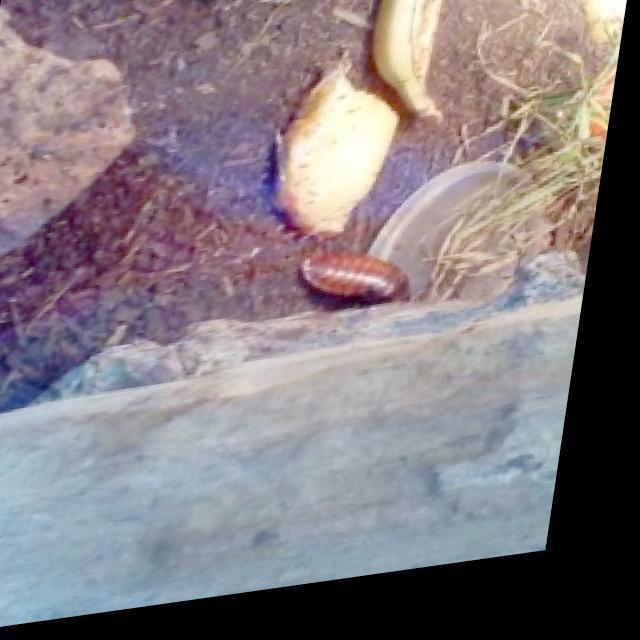cockroach: (291, 226, 426, 322)
